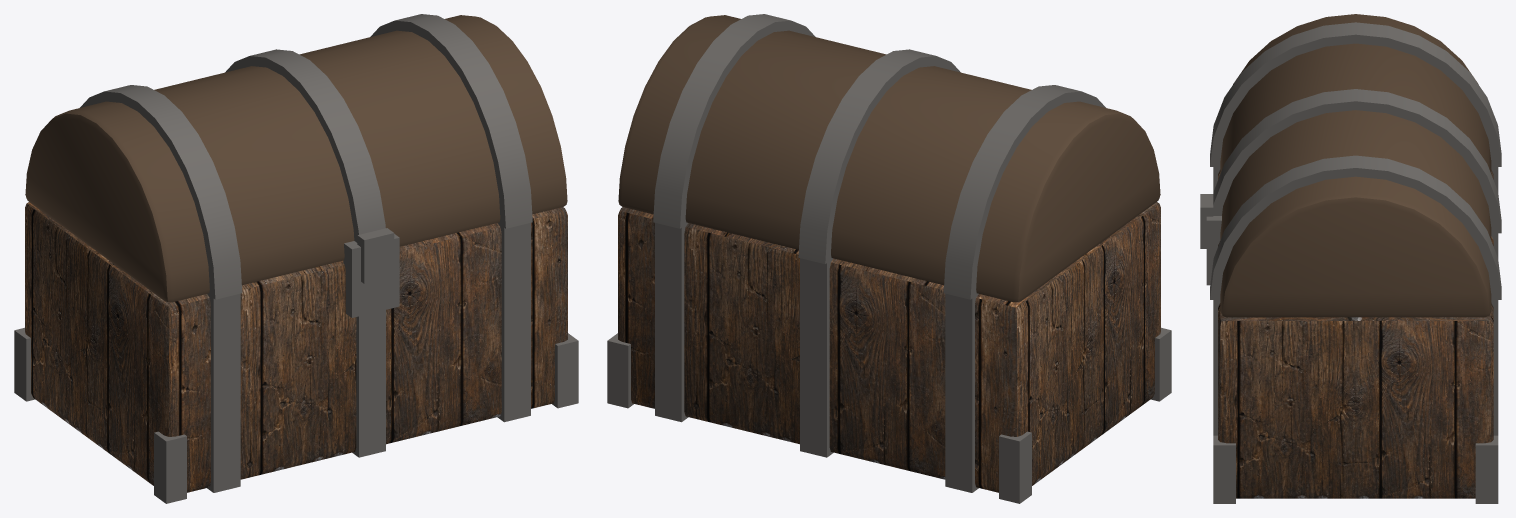
Rendered from treasure-chest-v01.glb.
3 views of the same model, side by side, from view 1: azimuth 30°, elevation 25°; view 2: azimuth 150°, elevation 25°; view 3: azimuth 270°, elevation 25° (orthographic). The views are drawn at different scales.
Parts seen in each view (by area): view 1: treasure-chest; view 2: treasure-chest; view 3: treasure-chest.
Boxes of the visible parts, x1,y1,x2,y2 form: treasure-chest: (14, 14, 578, 503); treasure-chest: (607, 14, 1171, 503); treasure-chest: (1200, 14, 1501, 503).
Bounding box in the file's own units: 1.38 × 1.07 × 0.93.
Materials: 2 (1 with a texture image).
